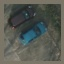car: (18, 22, 47, 46), (7, 6, 33, 30)
